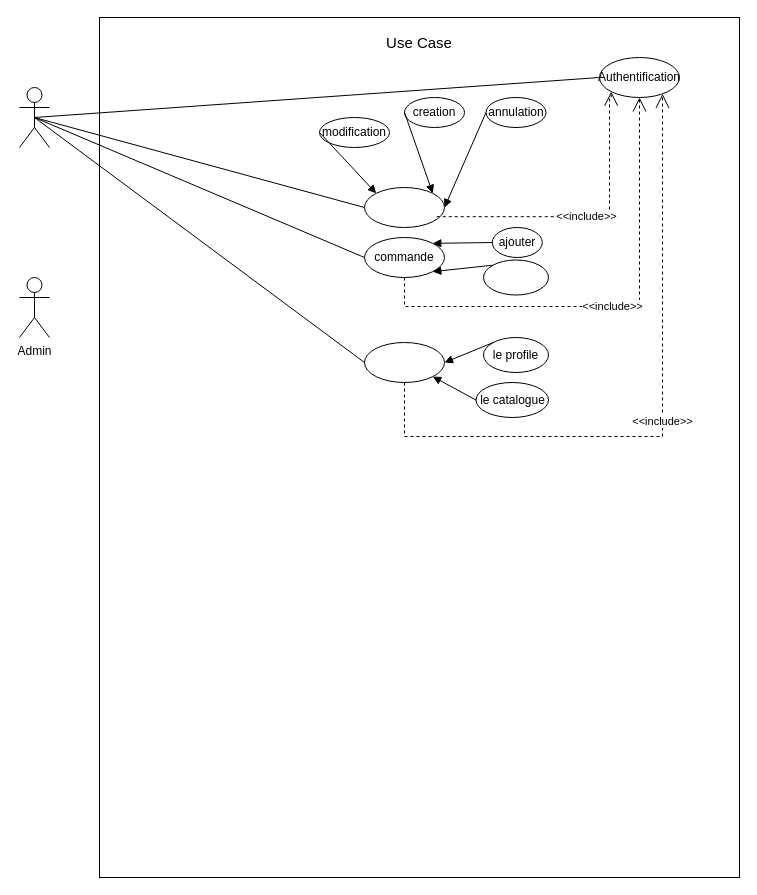
This 757x895 diagram has some shape labels left out. Here are the shapes that lost their labels. From the top down, the box of each, then its label:
(18, 86, 50, 148): User
(364, 186, 444, 228): gestion du panier
(482, 259, 548, 295): supprimer
(364, 342, 444, 382): consulter
